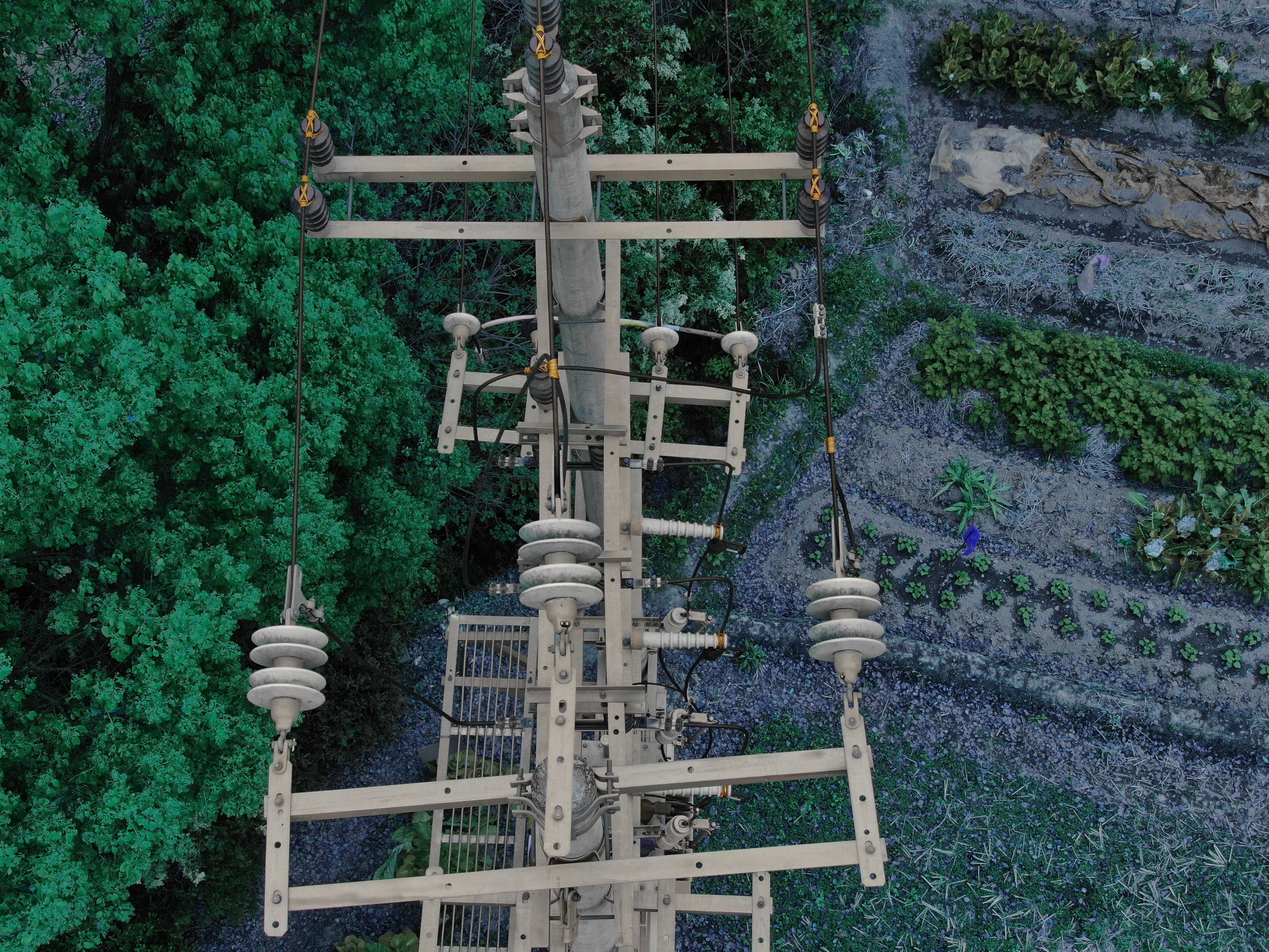severe_soiling_no_discharge_whole: (513, 513, 607, 634), (799, 572, 891, 684), (243, 620, 331, 730), (638, 326, 683, 354), (440, 311, 483, 339), (720, 329, 759, 357)
